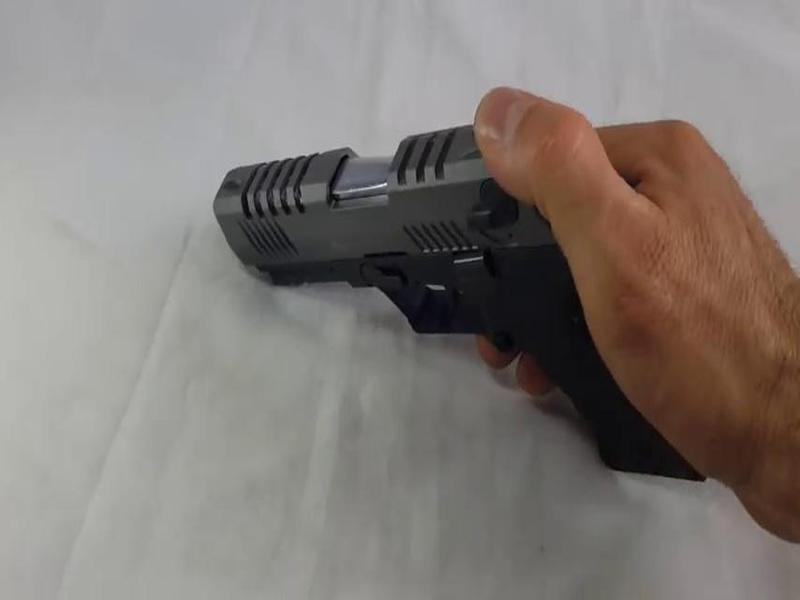Pistola: (217, 105, 723, 491)
